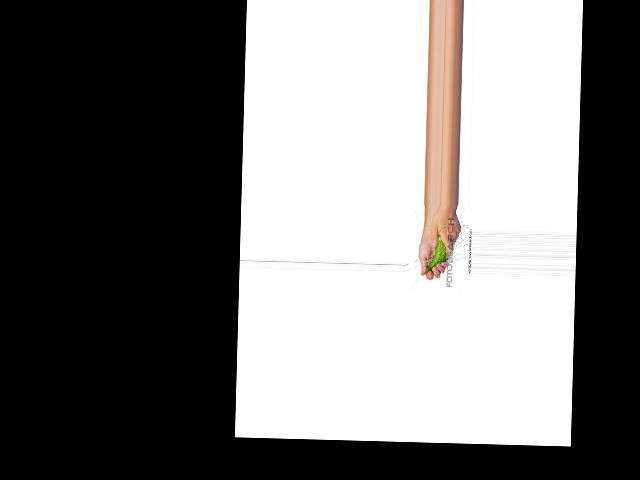cucumber: (426, 233, 448, 273)
